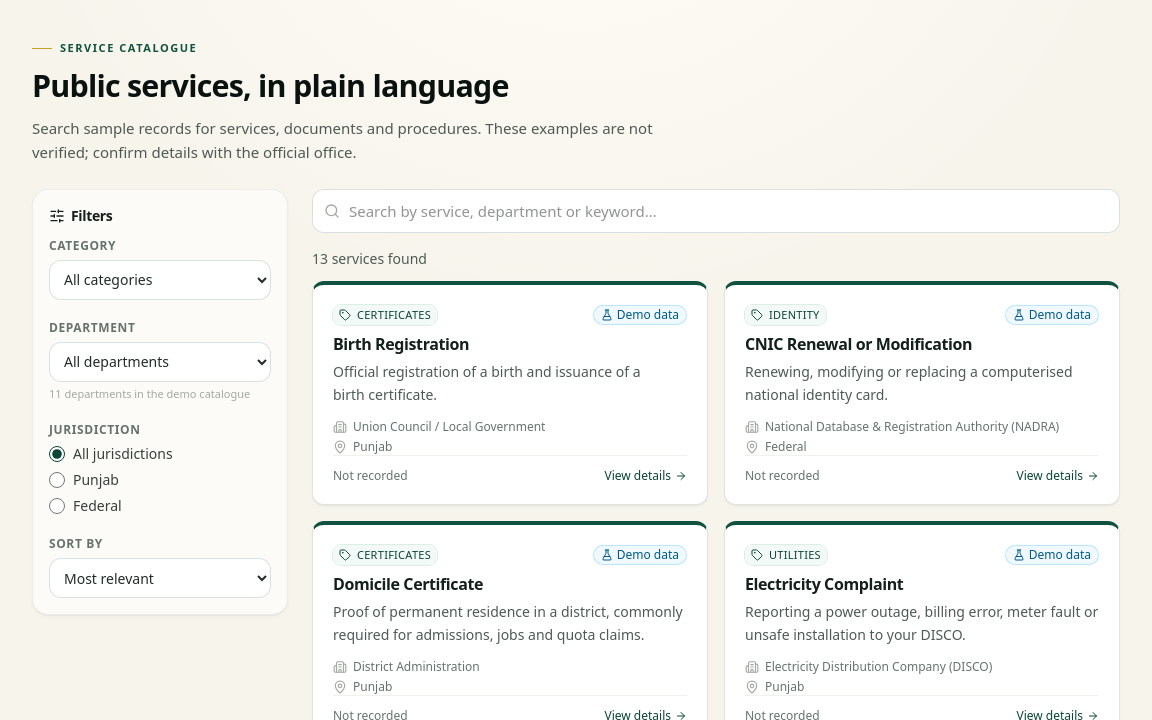
Test: Service catalogue › shows an empty state when nothing matches
Expected: the heading "Domicile Certificate" is shown, [333,573,483,595]
Step 1. Type "zzzzzz" into the search field named "Search services" → {"x": 716, "y": 211}, box [312,189,1120,233]
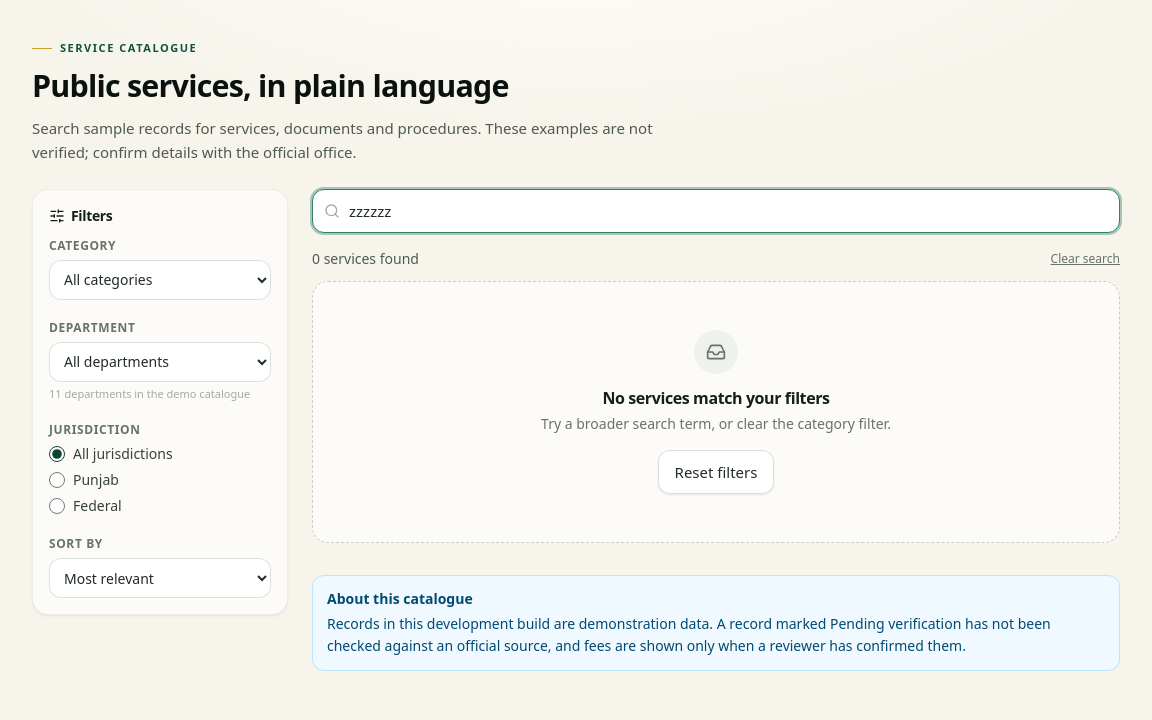
Expected: the heading "No services match your filters" is shown, [602,386,830,410]
